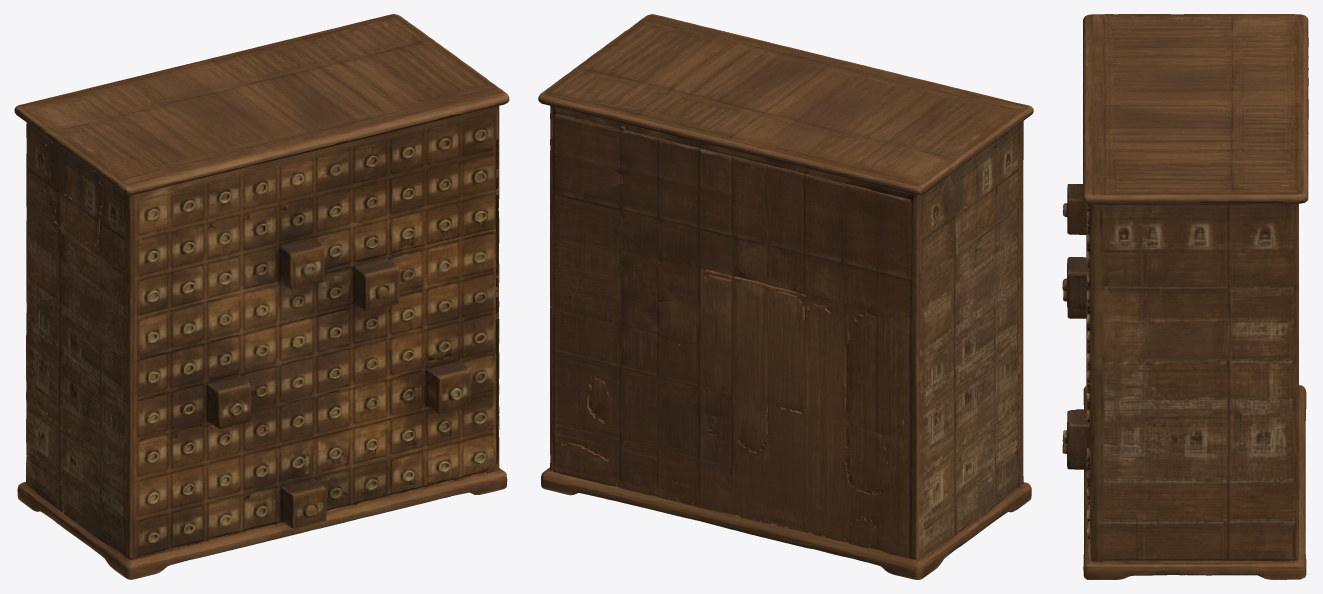
Rendered from herbal-cabinet.glb.
The picture shows the model from 3 angles, left to right: view 1: azimuth 30°, elevation 25°; view 2: azimuth 150°, elevation 25°; view 3: azimuth 270°, elevation 25°; orthographic projection. The views are drawn at different scales.
Parts seen in each view (by area): view 1: world; view 2: world; view 3: world.
Boxes of the visible parts, x1,y1,x2,y2 form: world: (14, 14, 509, 579); world: (538, 14, 1033, 579); world: (1062, 14, 1308, 579).
Bounding box in the file's own units: 1.85 × 1.8 × 1.04.
1 material, 1 textured.
